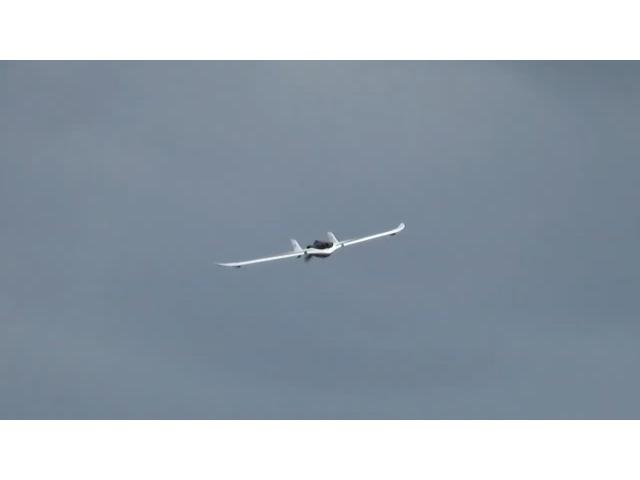Anti-Drone: (210, 219, 408, 269)
